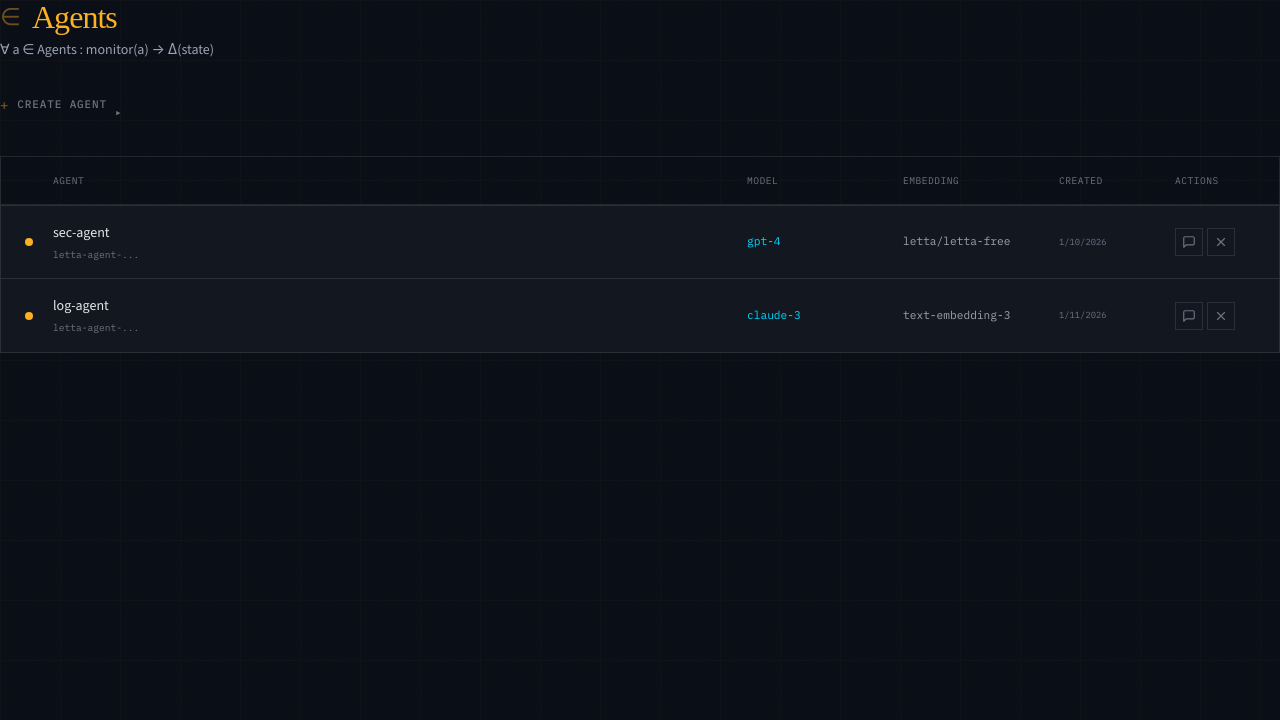
Test: Agents page › shows confirm dialog on delete click
The width and height of the screenshot is (1280, 720).
Check: the text "sec-agent" is shown, box top-left (53, 223), bottom-right (110, 242)
Click the 1st button titled "Delete": [1221, 242] box top-left (1207, 228), bottom-right (1235, 256)
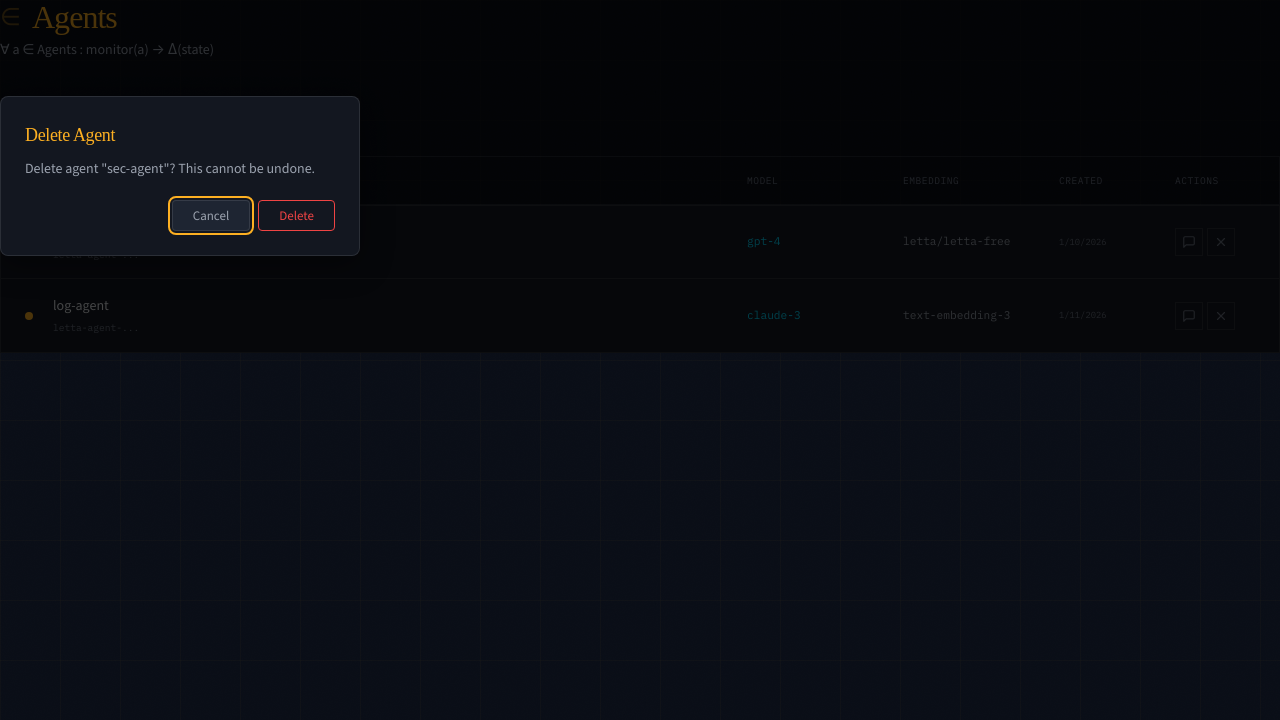
Check: the text "Delete Agent" is shown, box top-left (25, 125), bottom-right (115, 145)
